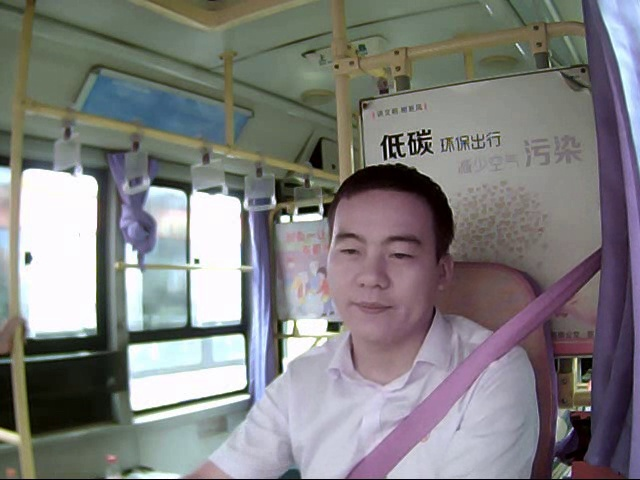closed_mouth: (344, 298, 397, 317)
open_eye: (385, 249, 415, 264), (330, 244, 362, 256)
